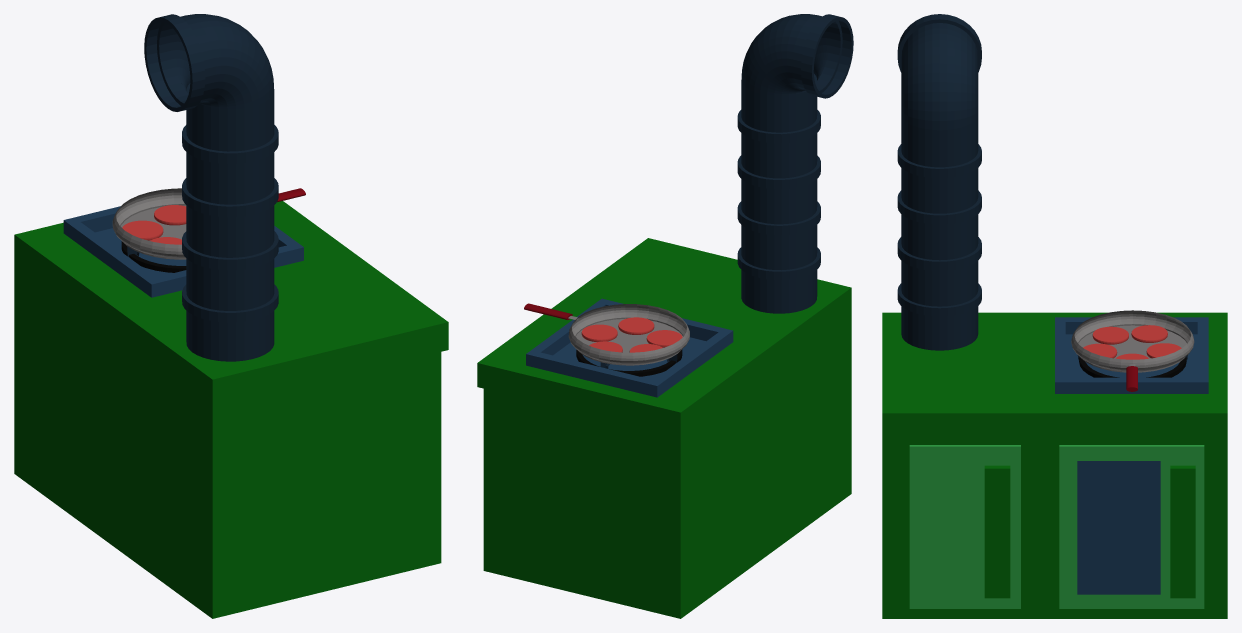
File: Cooker2.glb
3 views of the same model, side by side, from view 1: azimuth 30°, elevation 25°; view 2: azimuth 150°, elevation 25°; view 3: azimuth 270°, elevation 25° (orthographic). The views are drawn at different scales.
Parts seen in each view (by area): view 1: Cube, Cylinder, Cube.003, Circle.002, Cylinder.001, Cube.007; view 2: Cube, Cylinder, Cube.003, Circle.002, Cylinder.001, Cube.007, Circle.001; view 3: Cube, Cylinder, Cube.002, Cube.001, Circle.002, Cube.003, Cube.005, Cube.004, Cylinder.001, Cube.007, Circle.001.
Boxes of the visible parts, left/top/right/bottom form: Cube: left=14, top=201, right=448, bottom=618; Cylinder: left=144, top=14, right=278, bottom=361; Cube.003: left=63, top=206, right=303, bottom=297; Circle.002: left=112, top=188, right=305, bottom=259; Cylinder.001: left=122, top=205, right=186, bottom=244; Cube.007: left=95, top=228, right=186, bottom=277; Cube: left=477, top=238, right=851, bottom=618; Cylinder: left=737, top=14, right=853, bottom=313; Cube.003: left=526, top=298, right=733, bottom=397; Circle.002: left=524, top=303, right=689, bottom=365; Cylinder.001: left=581, top=317, right=682, bottom=352; Cube.007: left=553, top=337, right=705, bottom=379; Circle.001: left=576, top=349, right=682, bottom=376; Cube: left=882, top=312, right=1227, bottom=618; Cylinder: left=897, top=14, right=981, bottom=350; Cube.002: left=1059, top=445, right=1204, bottom=608; Cube.001: left=909, top=445, right=1020, bottom=608; Circle.002: left=1071, top=310, right=1194, bottom=391; Cube.003: left=1055, top=317, right=1208, bottom=393; Cube.005: left=984, top=465, right=1010, bottom=598; Cube.004: left=1170, top=465, right=1195, bottom=598; Cylinder.001: left=1083, top=325, right=1181, bottom=359; Cube.007: left=1065, top=334, right=1197, bottom=377; Circle.001: left=1079, top=357, right=1186, bottom=377.
Size of the model in its own units: 2.03 by 4.34 by 2.7.
